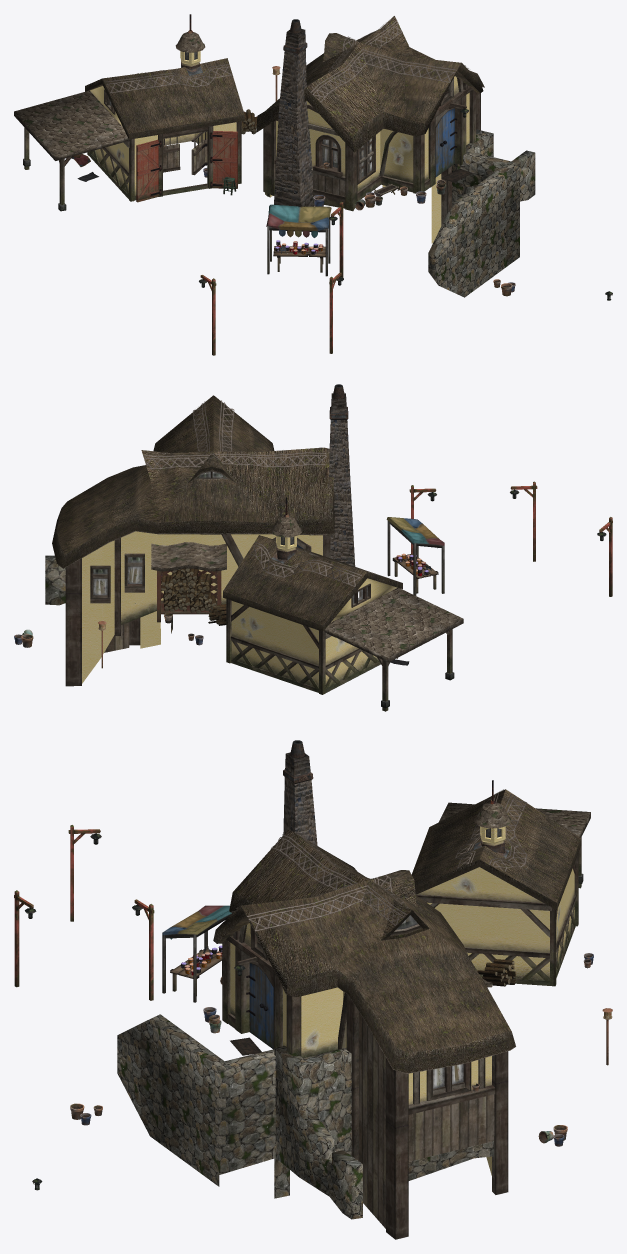
The model's file is building_cottage.glb.
The picture shows the model from 3 angles, top to bottom: view 1: azimuth 30°, elevation 25°; view 2: azimuth 150°, elevation 25°; view 3: azimuth 270°, elevation 25°; orthographic projection. The views are drawn at different scales.
Parts seen in each view (by area): view 1: building_cottage; view 2: building_cottage; view 3: building_cottage.
Boxes of the visible parts, x1=… form: building_cottage: x1=14, y1=14, x2=612, y2=355; building_cottage: x1=14, y1=384, x2=612, y2=711; building_cottage: x1=14, y1=740, x2=612, y2=1239.
Bounding box in the file's own units: 12 × 7.47 × 11.25.
Materials: 15 (15 with a texture image).
